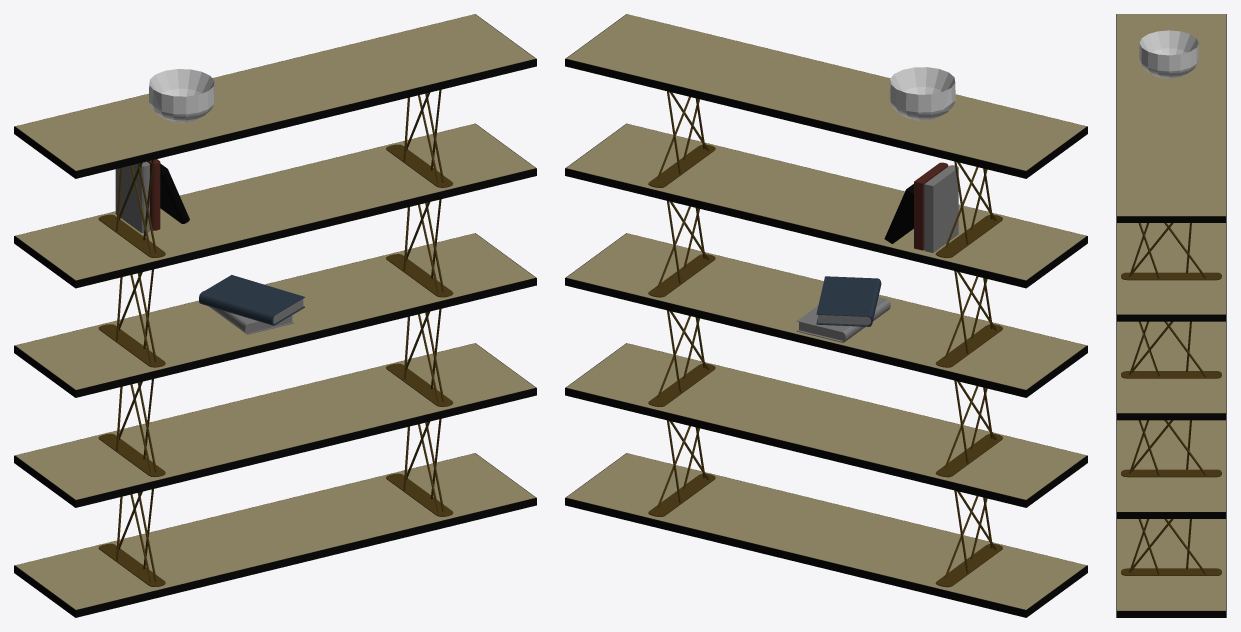
File: blenderExportShelf.dae
3 renders of one model, left to right at view 1: azimuth 30°, elevation 25°; view 2: azimuth 150°, elevation 25°; view 3: azimuth 270°, elevation 25°, orthographic. The views are drawn at different scales.
Visible parts, largest first — view 1: _D_MESH; view 2: _D_MESH; view 3: _D_MESH.
Boxes of the visible parts, x1=… form: _D_MESH: x1=14, y1=14, x2=536, y2=617; _D_MESH: x1=565, y1=14, x2=1087, y2=617; _D_MESH: x1=1116, y1=14, x2=1226, y2=617.
Bounding box in the file's own units: 1.3 × 0.3 × 1.29.
